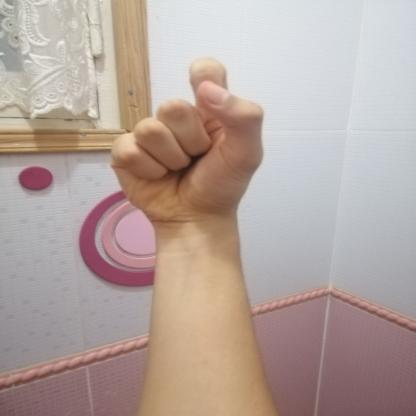FAA: (96, 50, 282, 236)
